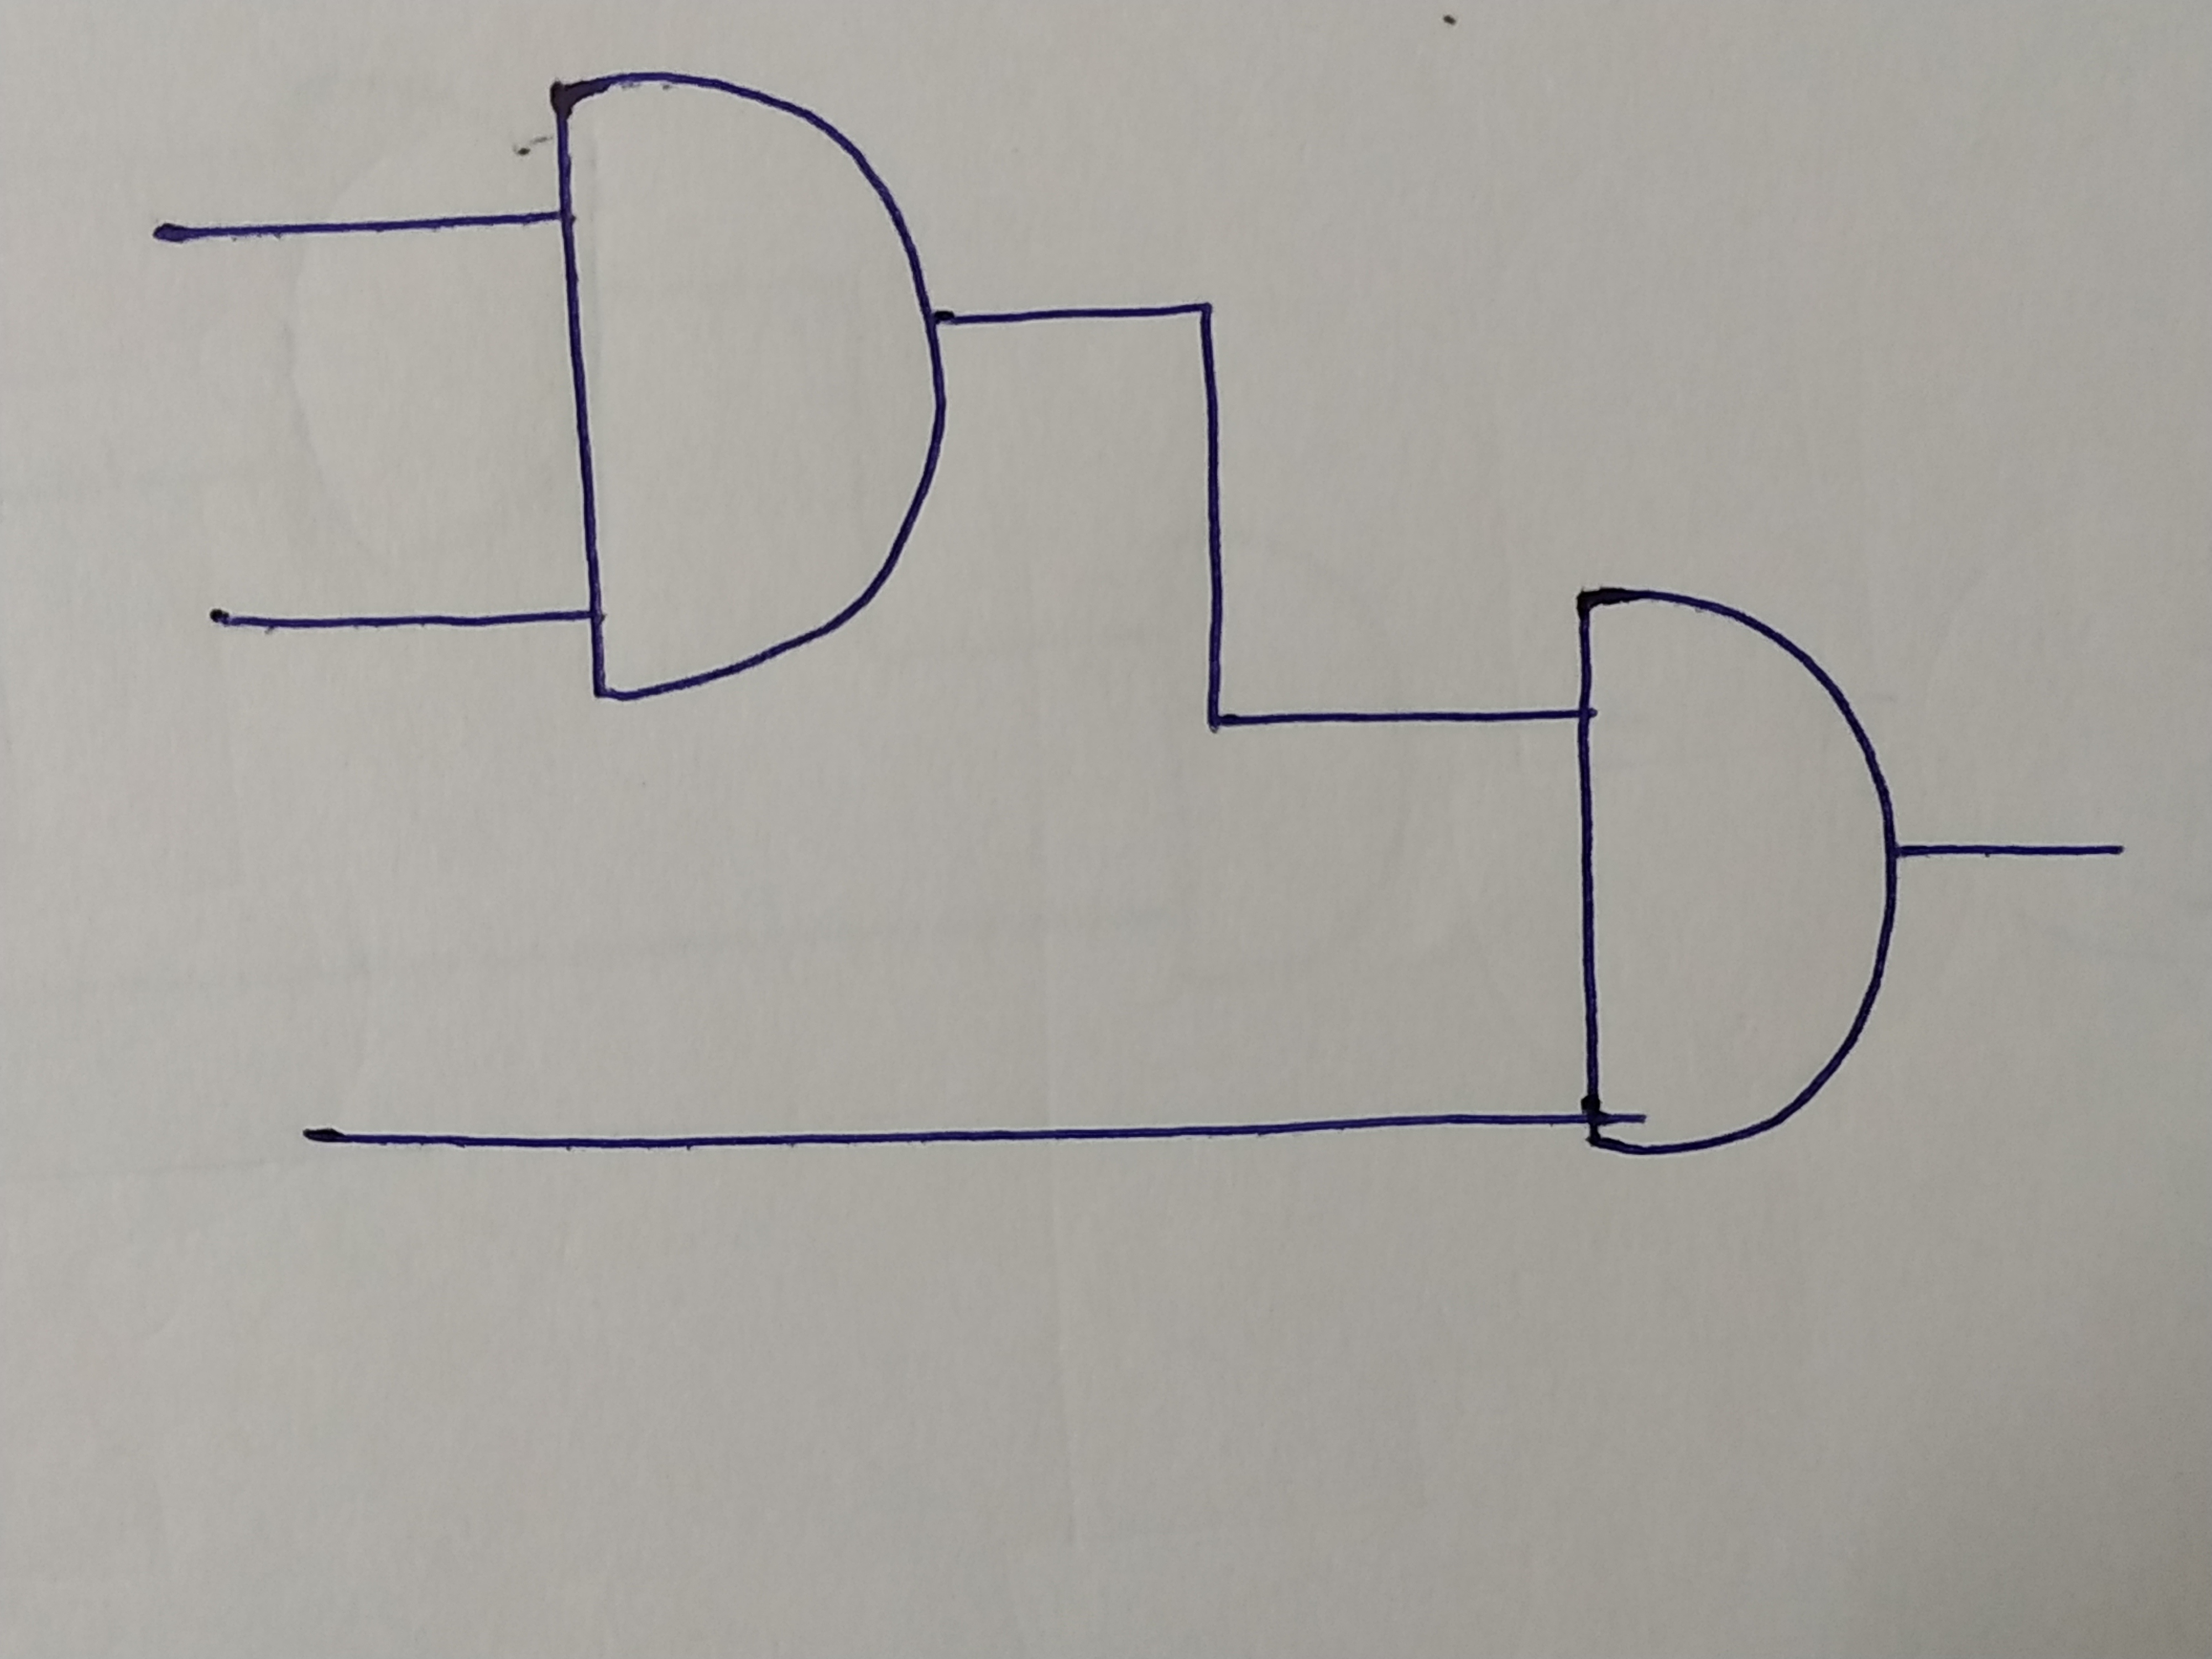and: (549, 70, 948, 695), (1571, 584, 1898, 1159)
